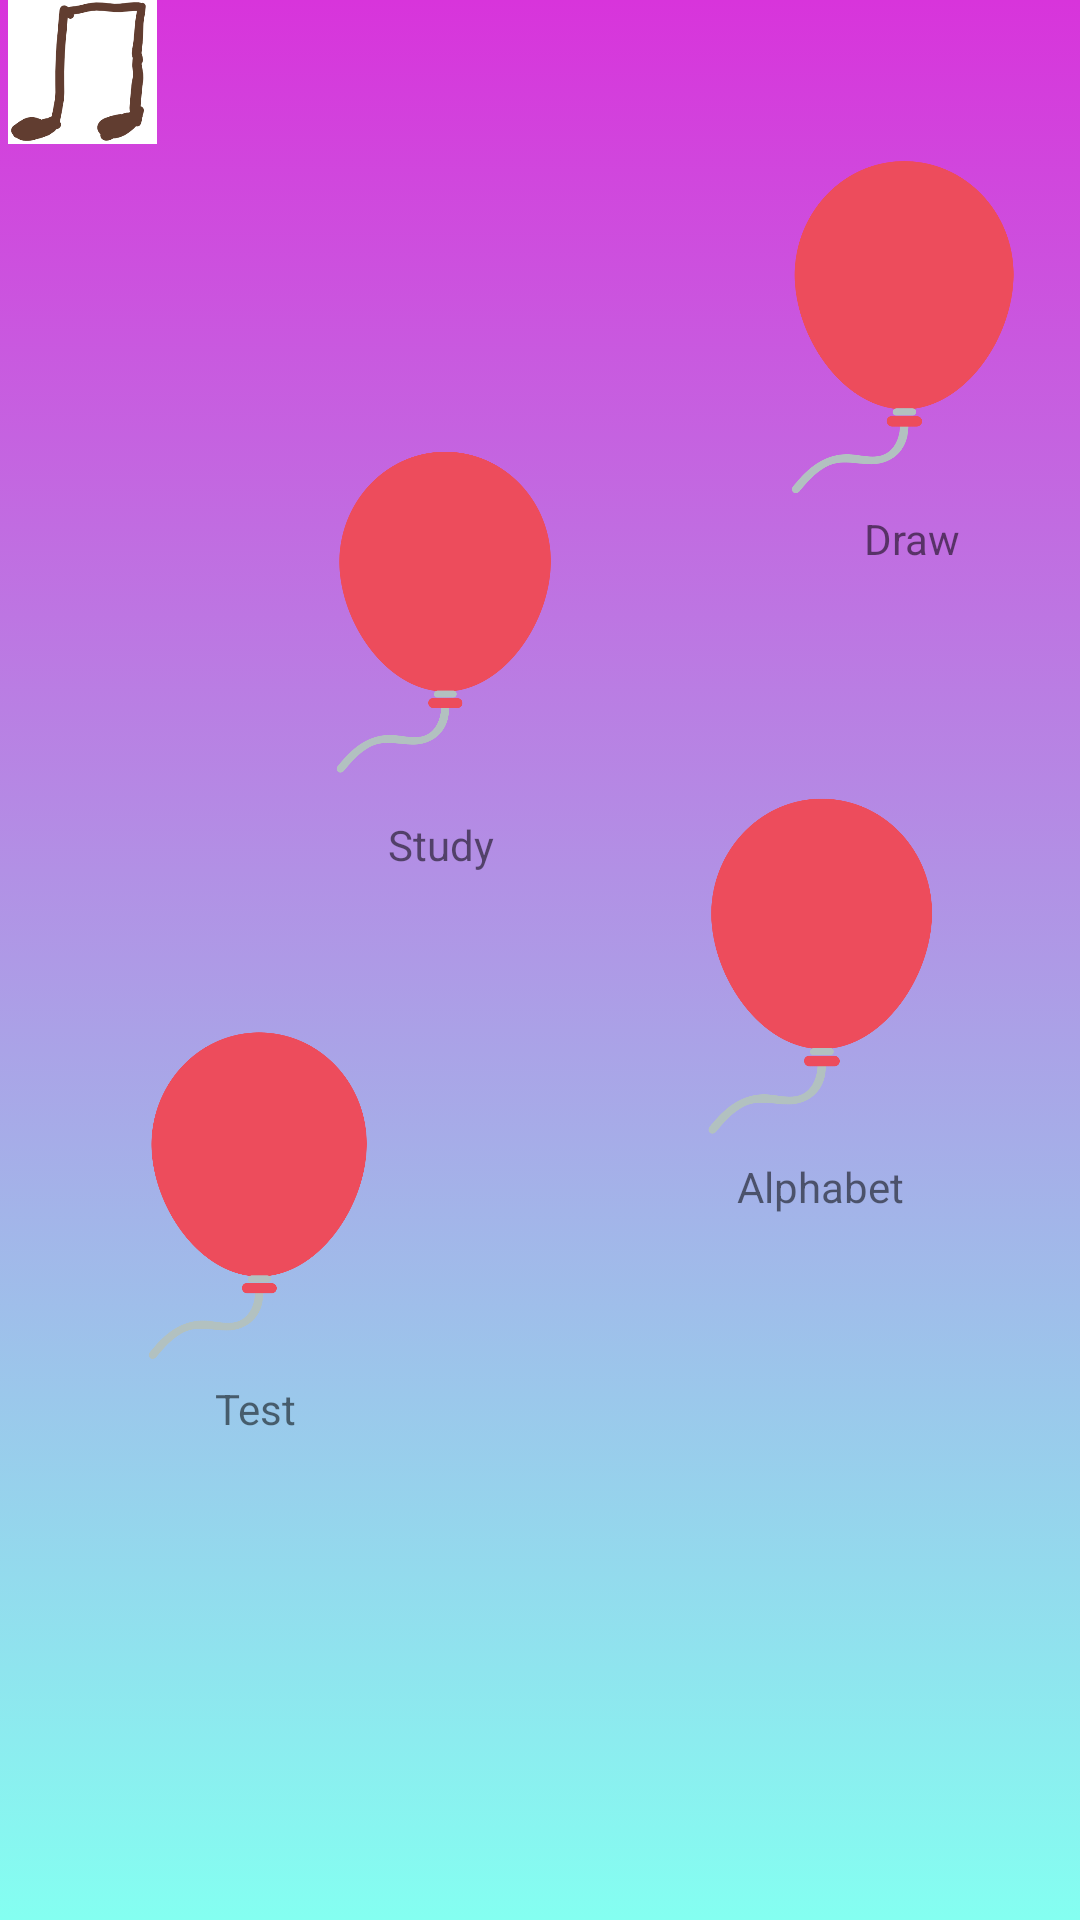

Icon bounding boxes for this 1080px x 1920px phone screenshot, format (x1, y1, x2, y2):
smallmelody: (8, 0, 157, 144)
